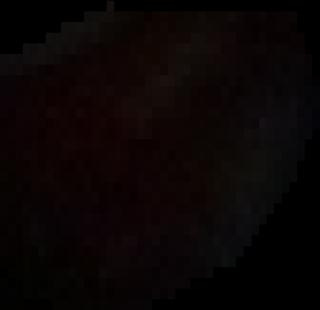cream: (0, 1, 320, 310)
